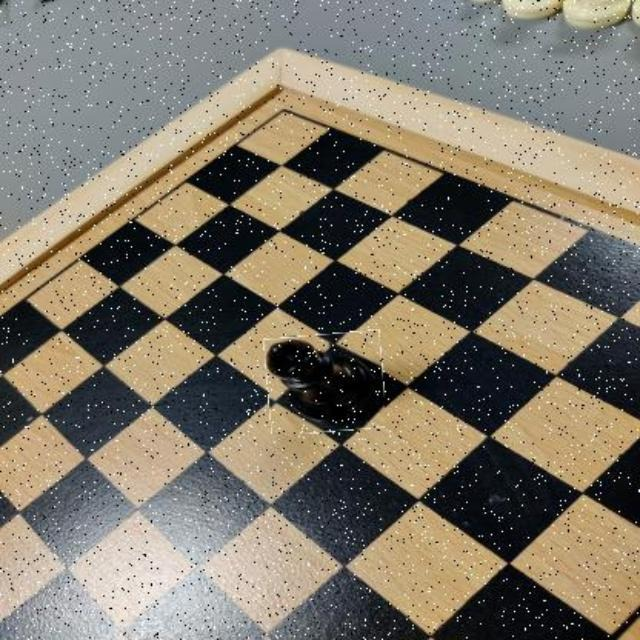black-bishop: (265, 331, 385, 432)
